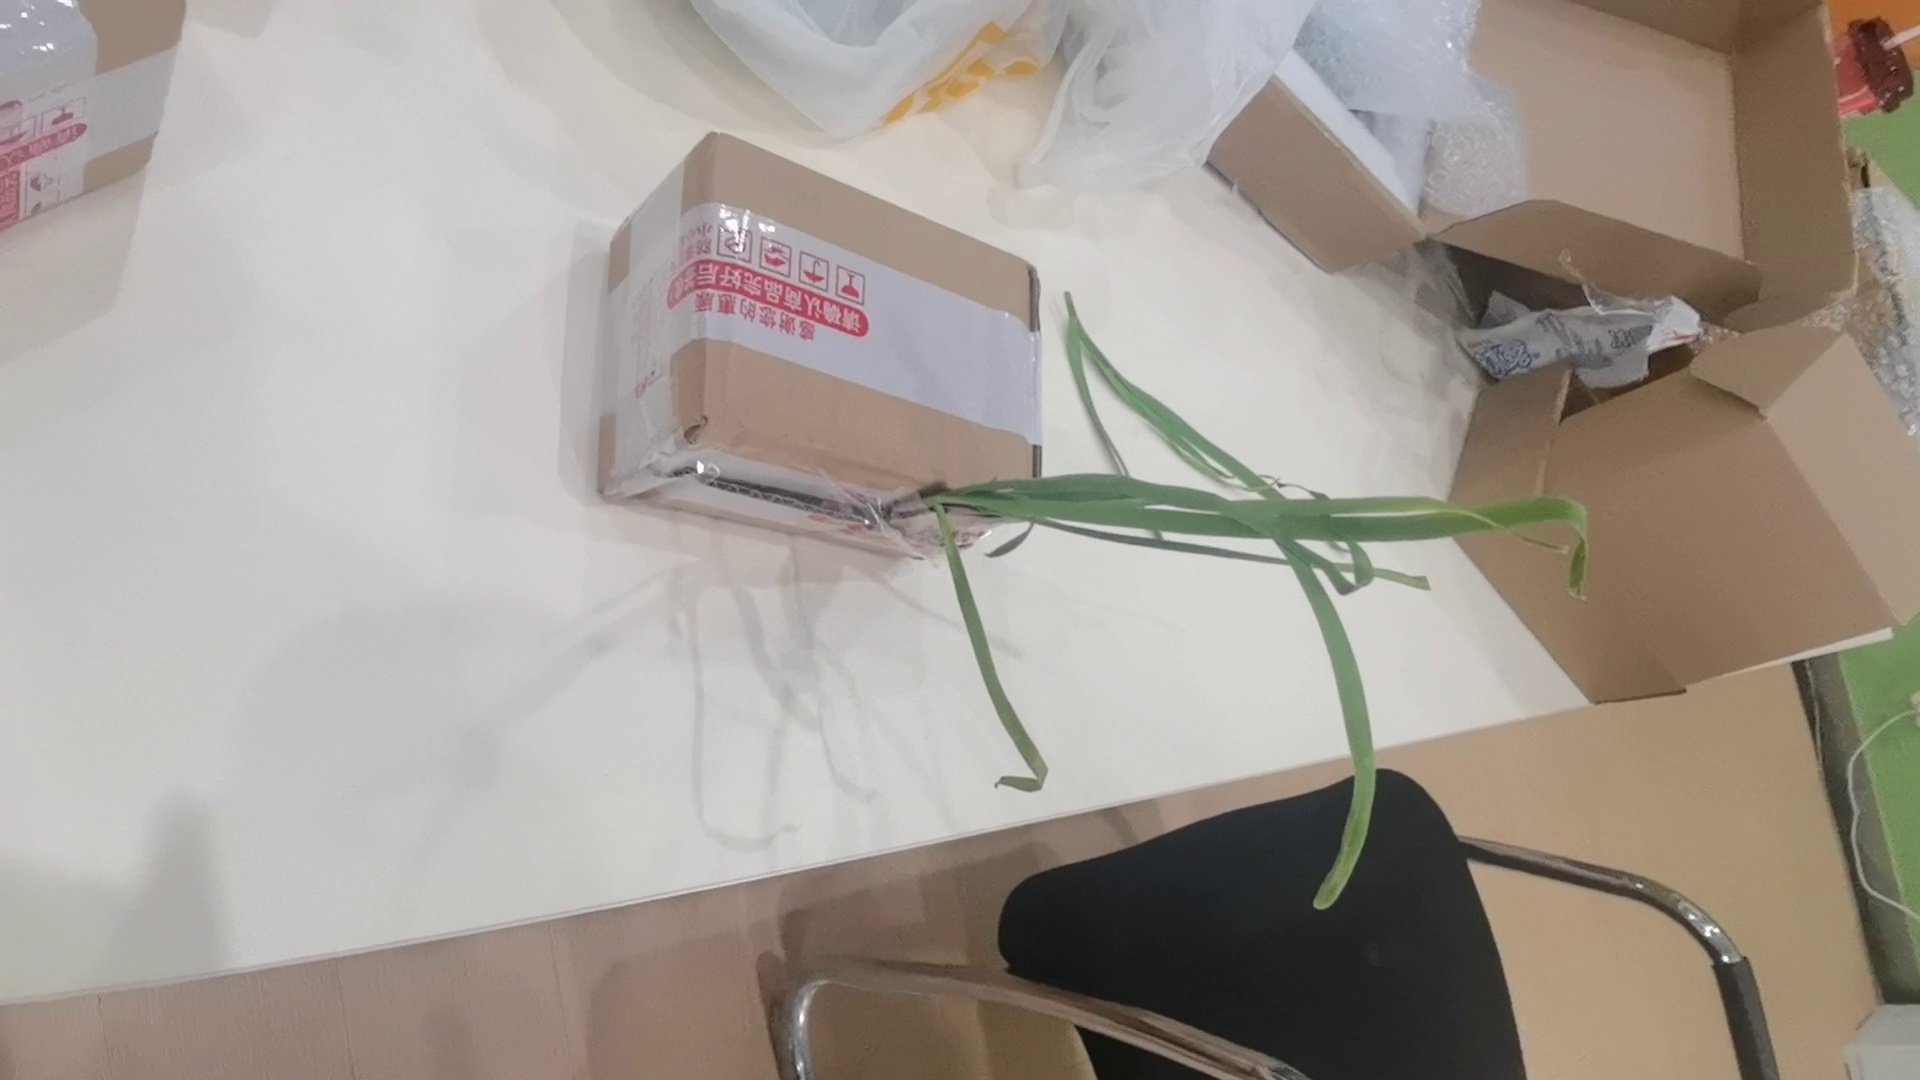chives: (884, 451, 1615, 930), (1055, 287, 1280, 484)
